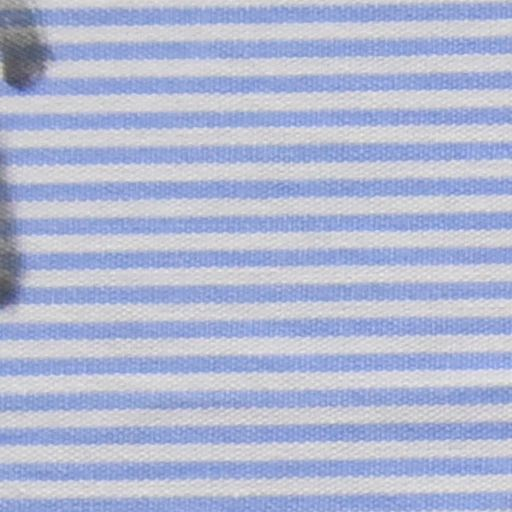defect: (1, 1, 52, 319)
